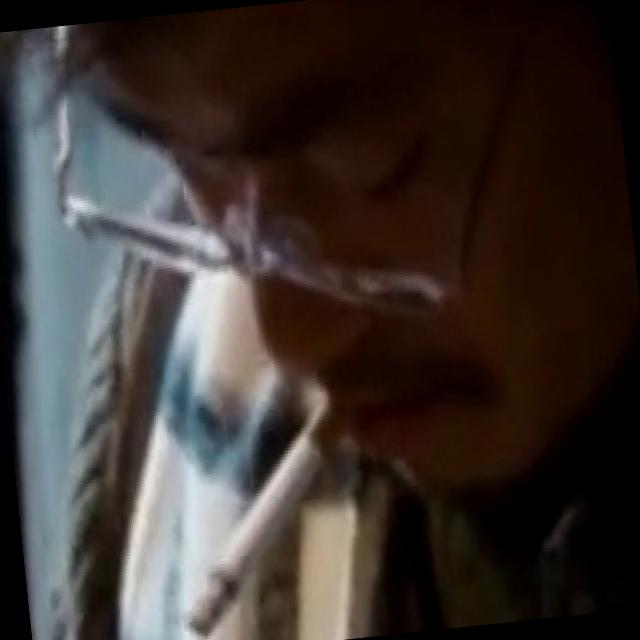cigarette: (138, 389, 379, 640)
